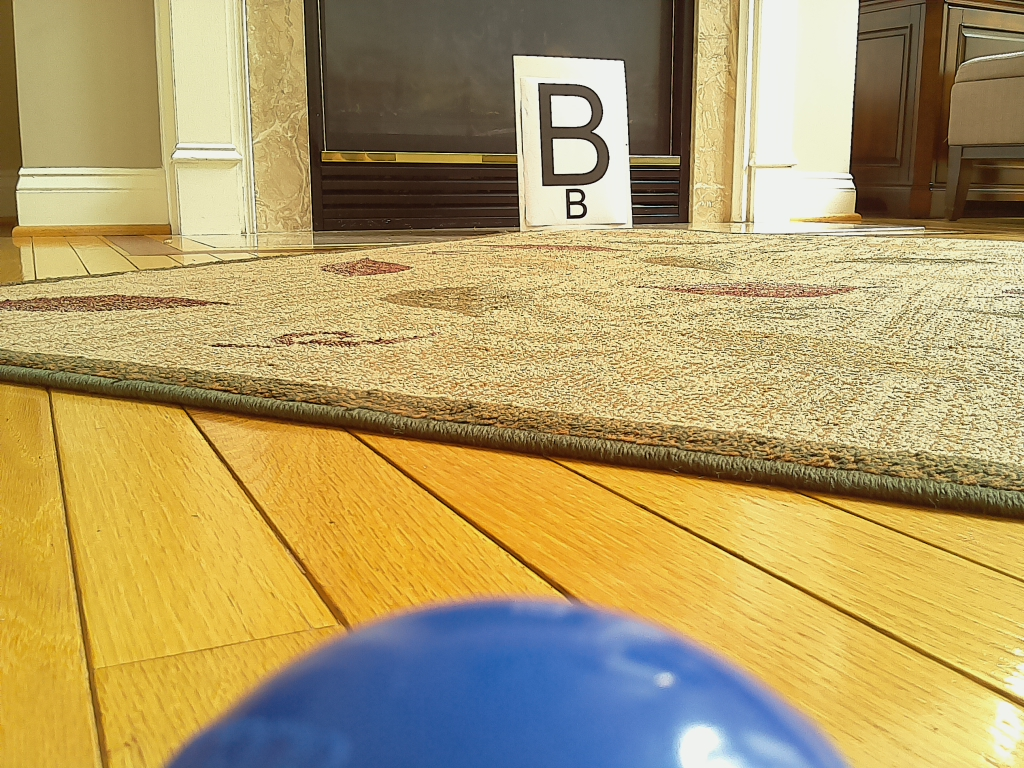letter: (537, 83, 611, 188)
